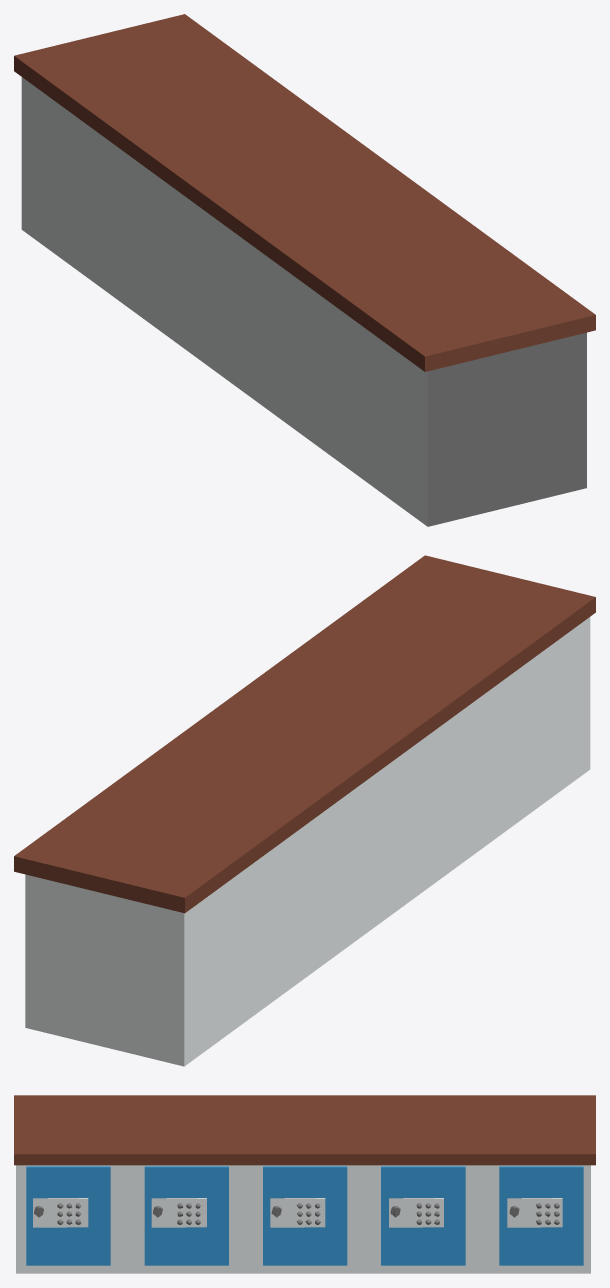
The model's file is Spind zum Sitzen.fbx.
3 views of the same model, one above another, from view 1: azimuth 30°, elevation 25°; view 2: azimuth 150°, elevation 25°; view 3: azimuth 270°, elevation 25° (orthographic). The views are drawn at different scales.
Parts seen in each view (by area): view 1: Spind_LOD0; view 2: Spind_LOD0; view 3: Spind_LOD0.
Boxes of the visible parts, left/top/right/bottom form: Spind_LOD0: left=14, top=14, right=595, bottom=526; Spind_LOD0: left=14, top=555, right=595, bottom=1066; Spind_LOD0: left=14, top=1095, right=595, bottom=1273.
Size of what is drawn, in the model's own units: 0.5847 by 0.558 by 2.41.
